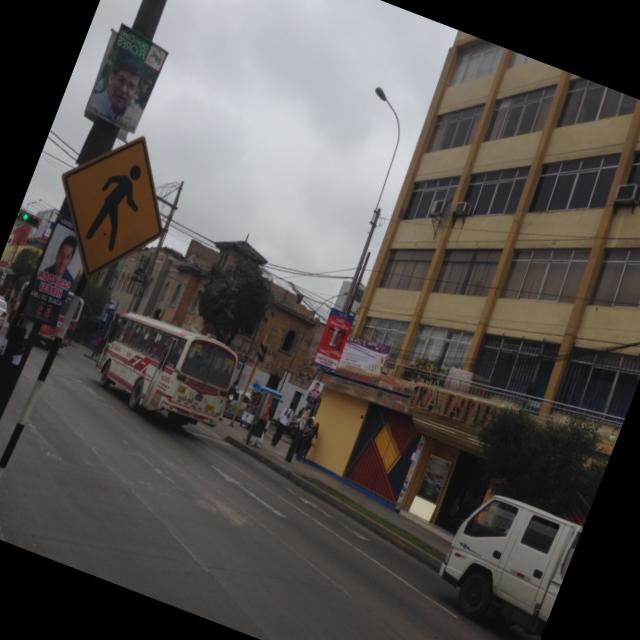bus: (86, 300, 247, 441), (8, 274, 91, 350)
